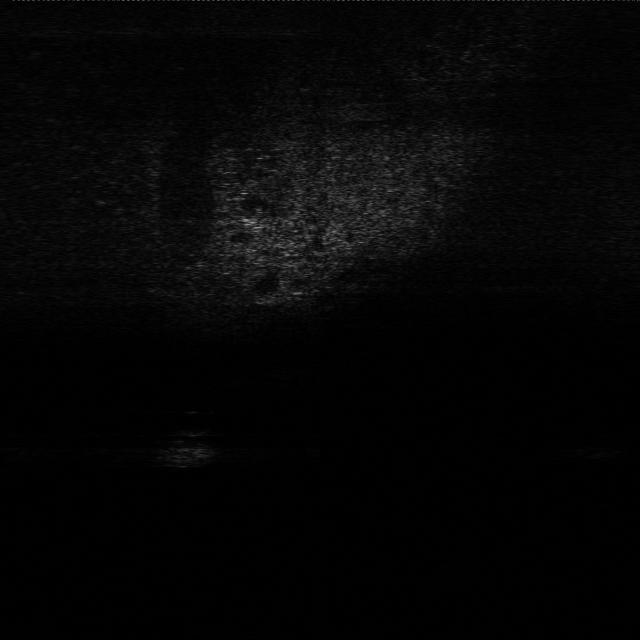ball: (170, 406, 214, 438)
circle cage: (150, 440, 220, 473)
